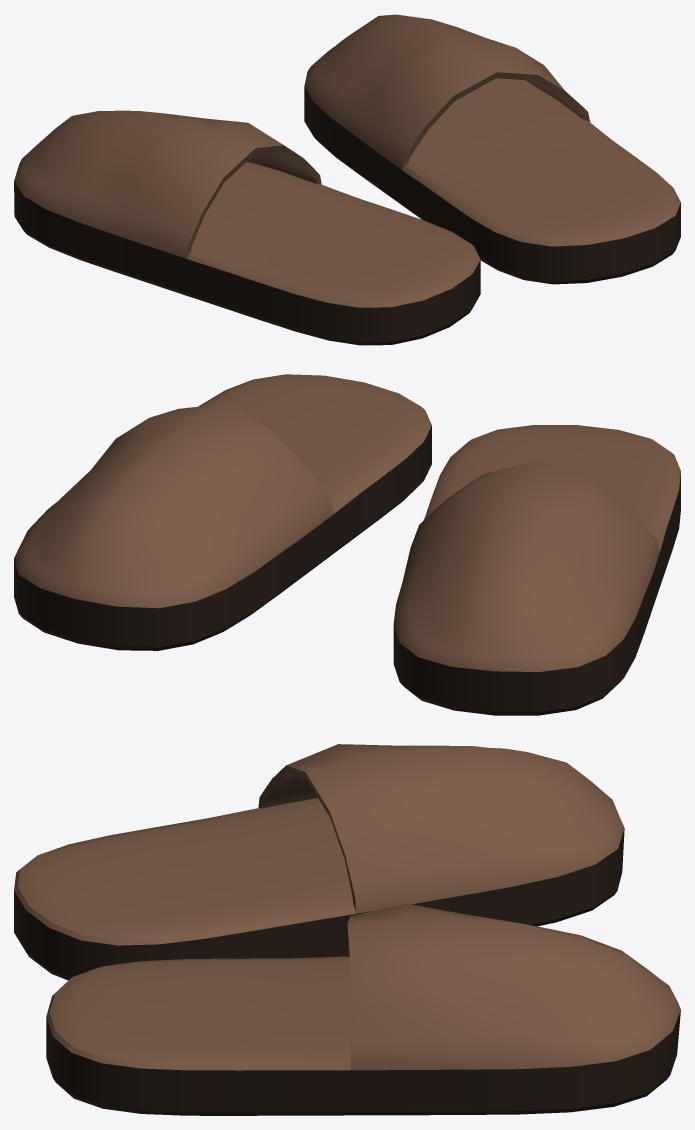
Rendered from Slippers.glb.
The picture shows the model from 3 angles, top to bottom: view 1: azimuth 30°, elevation 25°; view 2: azimuth 150°, elevation 25°; view 3: azimuth 270°, elevation 25°; orthographic projection. The views are drawn at different scales.
Parts seen in each view (by area): view 1: Slippers; view 2: Slippers; view 3: Slippers.
Boxes of the visible parts, x1=… form: Slippers: x1=14, y1=14, x2=680, y2=345; Slippers: x1=14, y1=374, x2=680, y2=715; Slippers: x1=14, y1=744, x2=680, y2=1115.
Bounding box in the file's own units: 0.2411 × 0.0581 × 0.2312.
1 material, 1 textured.
